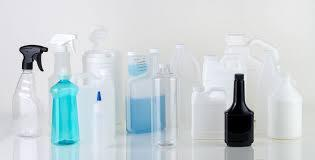Container for household chemicals: (122, 23, 298, 142), (79, 27, 124, 153), (147, 52, 187, 153), (7, 43, 46, 144), (48, 34, 80, 141), (268, 61, 307, 143), (224, 72, 254, 143)
